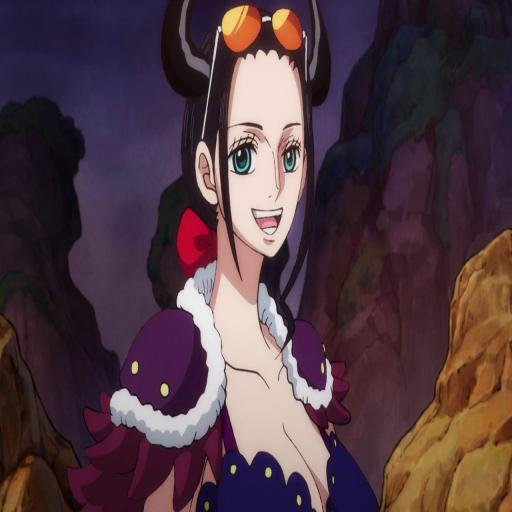NicoRobin: (133, 0, 376, 512)
